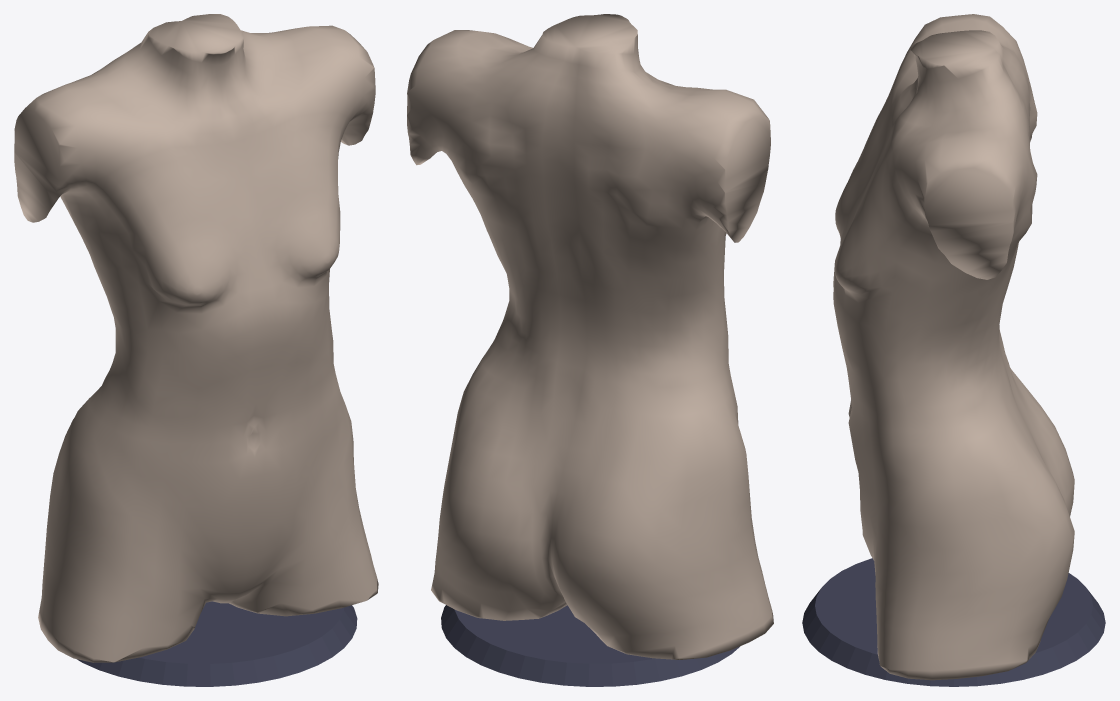
File: maniqui_torso.glb
The picture shows the model from 3 angles, left to right: view 1: azimuth 30°, elevation 25°; view 2: azimuth 150°, elevation 25°; view 3: azimuth 270°, elevation 25°; orthographic projection. The views are drawn at different scales.
Parts seen in each view (by area): view 1: Maniqui_Torso; view 2: Maniqui_Torso; view 3: Maniqui_Torso.
Part boxes in pixels (<box>): Maniqui_Torso: <box>14,14,378,686</box>; Maniqui_Torso: <box>407,14,773,686</box>; Maniqui_Torso: <box>802,14,1105,686</box>.
Size of the model in its own units: 0.5655 by 1 by 0.48.
